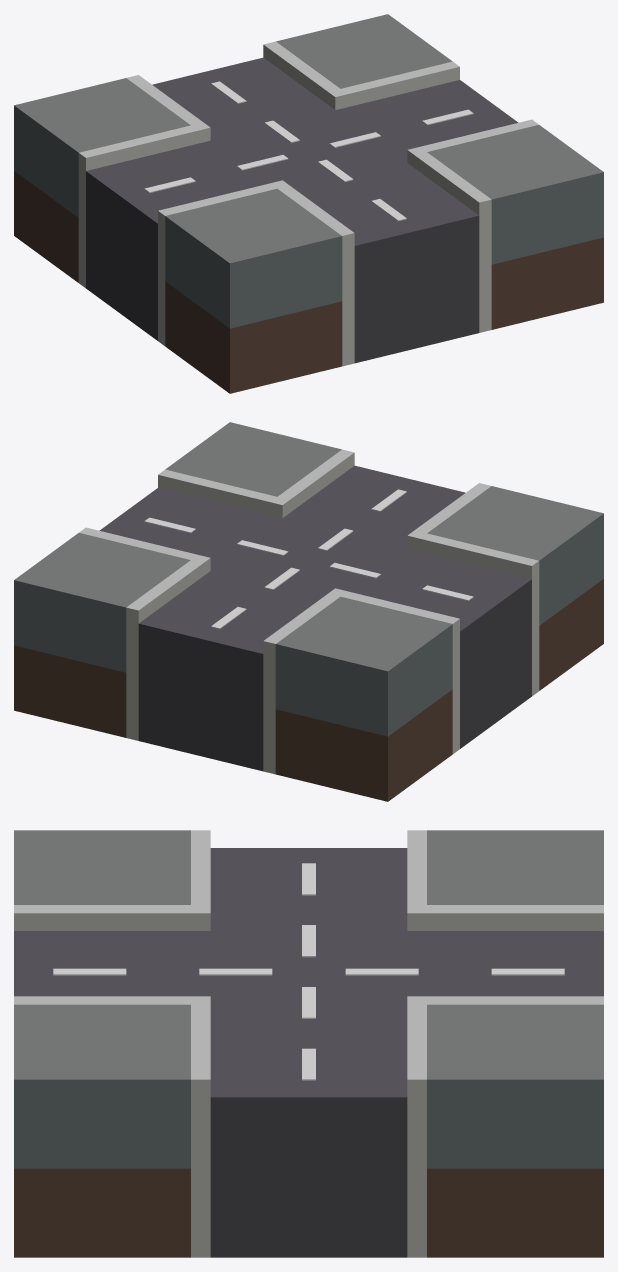
Rendered from TB_CITY_Road_C.FBX.
3 views of the same model, one above another, from view 1: azimuth 30°, elevation 25°; view 2: azimuth 150°, elevation 25°; view 3: azimuth 270°, elevation 25° (orthographic). The views are drawn at different scales.
Visible parts, largest first — view 1: TB_CITY_Road_C; view 2: TB_CITY_Road_C; view 3: TB_CITY_Road_C.
Part boxes in pixels (x1=…): TB_CITY_Road_C: x1=14, y1=14, x2=603, y2=393; TB_CITY_Road_C: x1=14, y1=422, x2=603, y2=801; TB_CITY_Road_C: x1=14, y1=830, x2=603, y2=1257.
Bounding box in the file's own units: 30 × 10 × 30.
